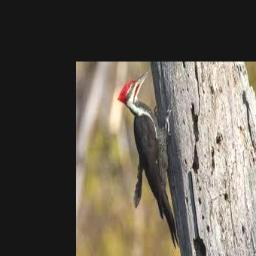Woodpecker: (117, 69, 180, 248)
